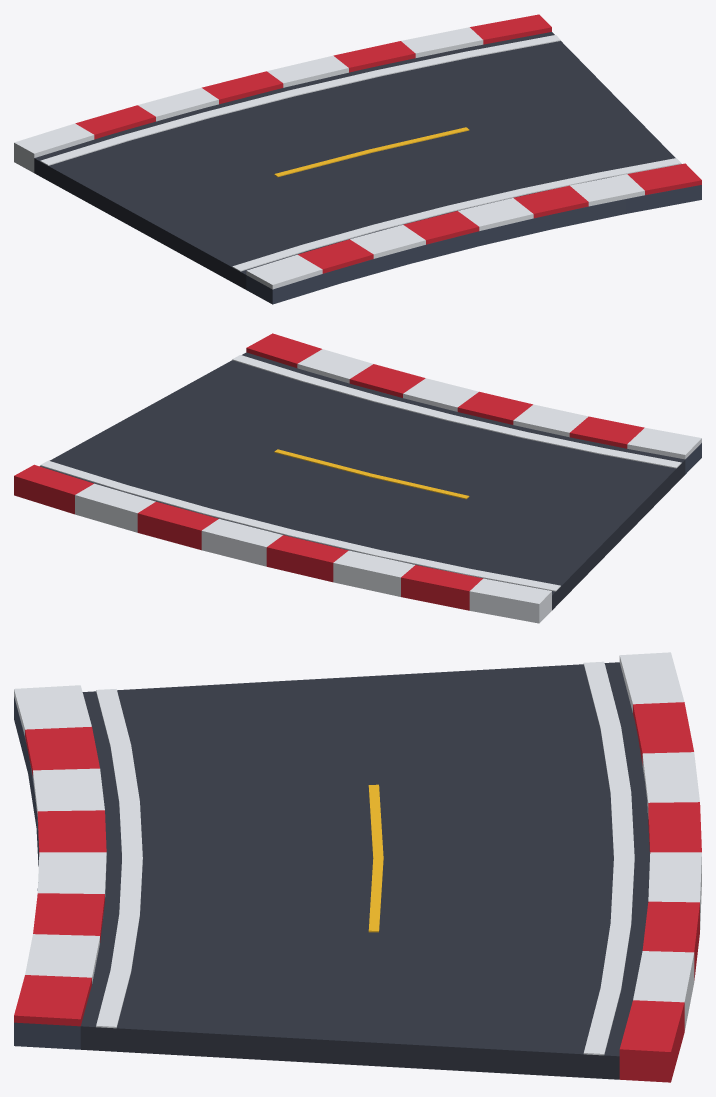
Rendered from RingRoadSegment.fbx.
3 renders of one model, top to bottom at view 1: azimuth 30°, elevation 25°; view 2: azimuth 150°, elevation 25°; view 3: azimuth 270°, elevation 25°, orthographic. The views are drawn at different scales.
Visible parts, largest first — view 1: RingRoadSegment; view 2: RingRoadSegment; view 3: RingRoadSegment.
Boxes of the visible parts, left/top/right/bottom form: RingRoadSegment: left=14, top=14, right=701, bottom=304; RingRoadSegment: left=14, top=333, right=701, bottom=623; RingRoadSegment: left=14, top=652, right=701, bottom=1082.
Bounding box in the file's own units: 36.55 × 1.3 × 26.58.
Materials: 1 (1 with a texture image).
